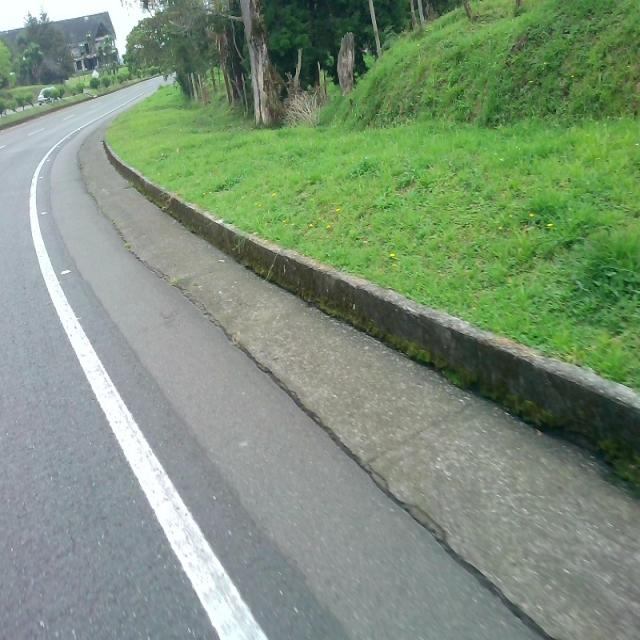DITCH: (80, 55, 638, 638), (55, 80, 637, 638), (76, 91, 638, 638)
